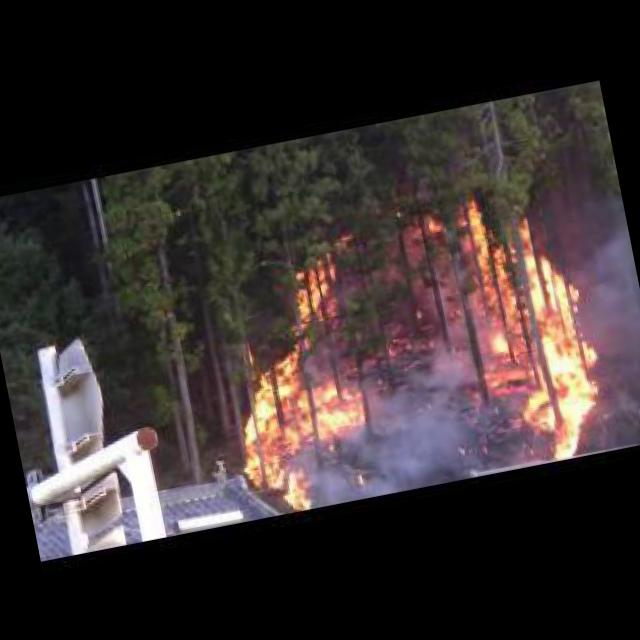fire: (448, 181, 625, 470), (207, 252, 380, 518), (426, 220, 438, 232)
